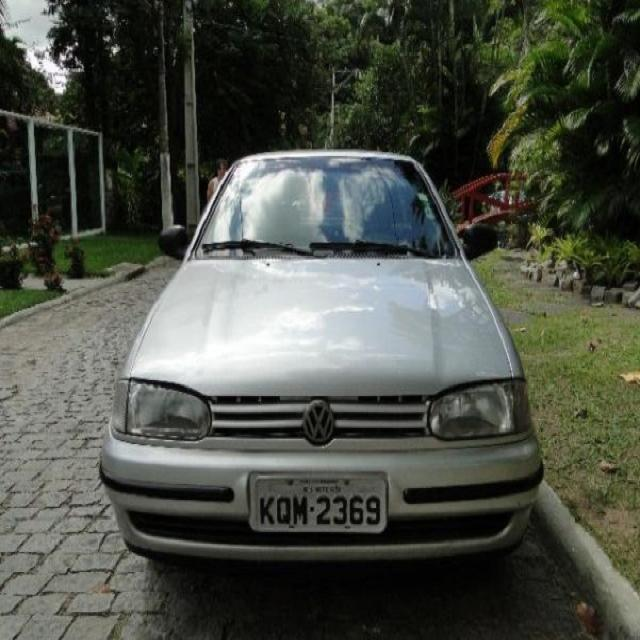Placa: (248, 472, 390, 539)
